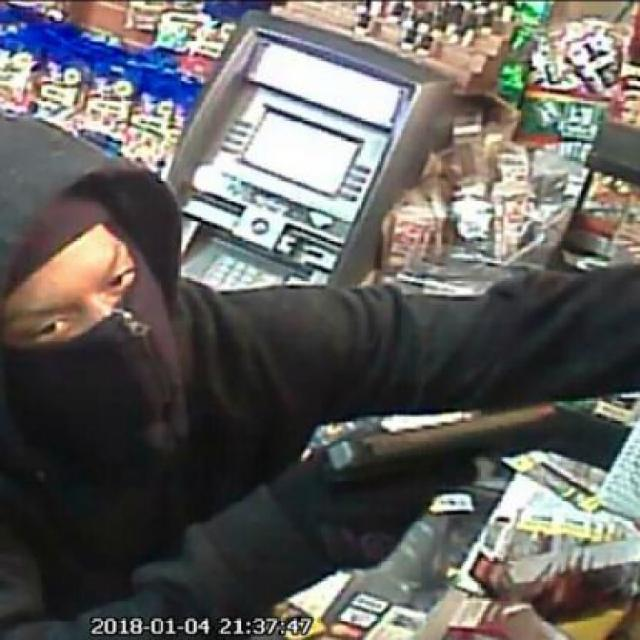Gun: (296, 398, 581, 537)
